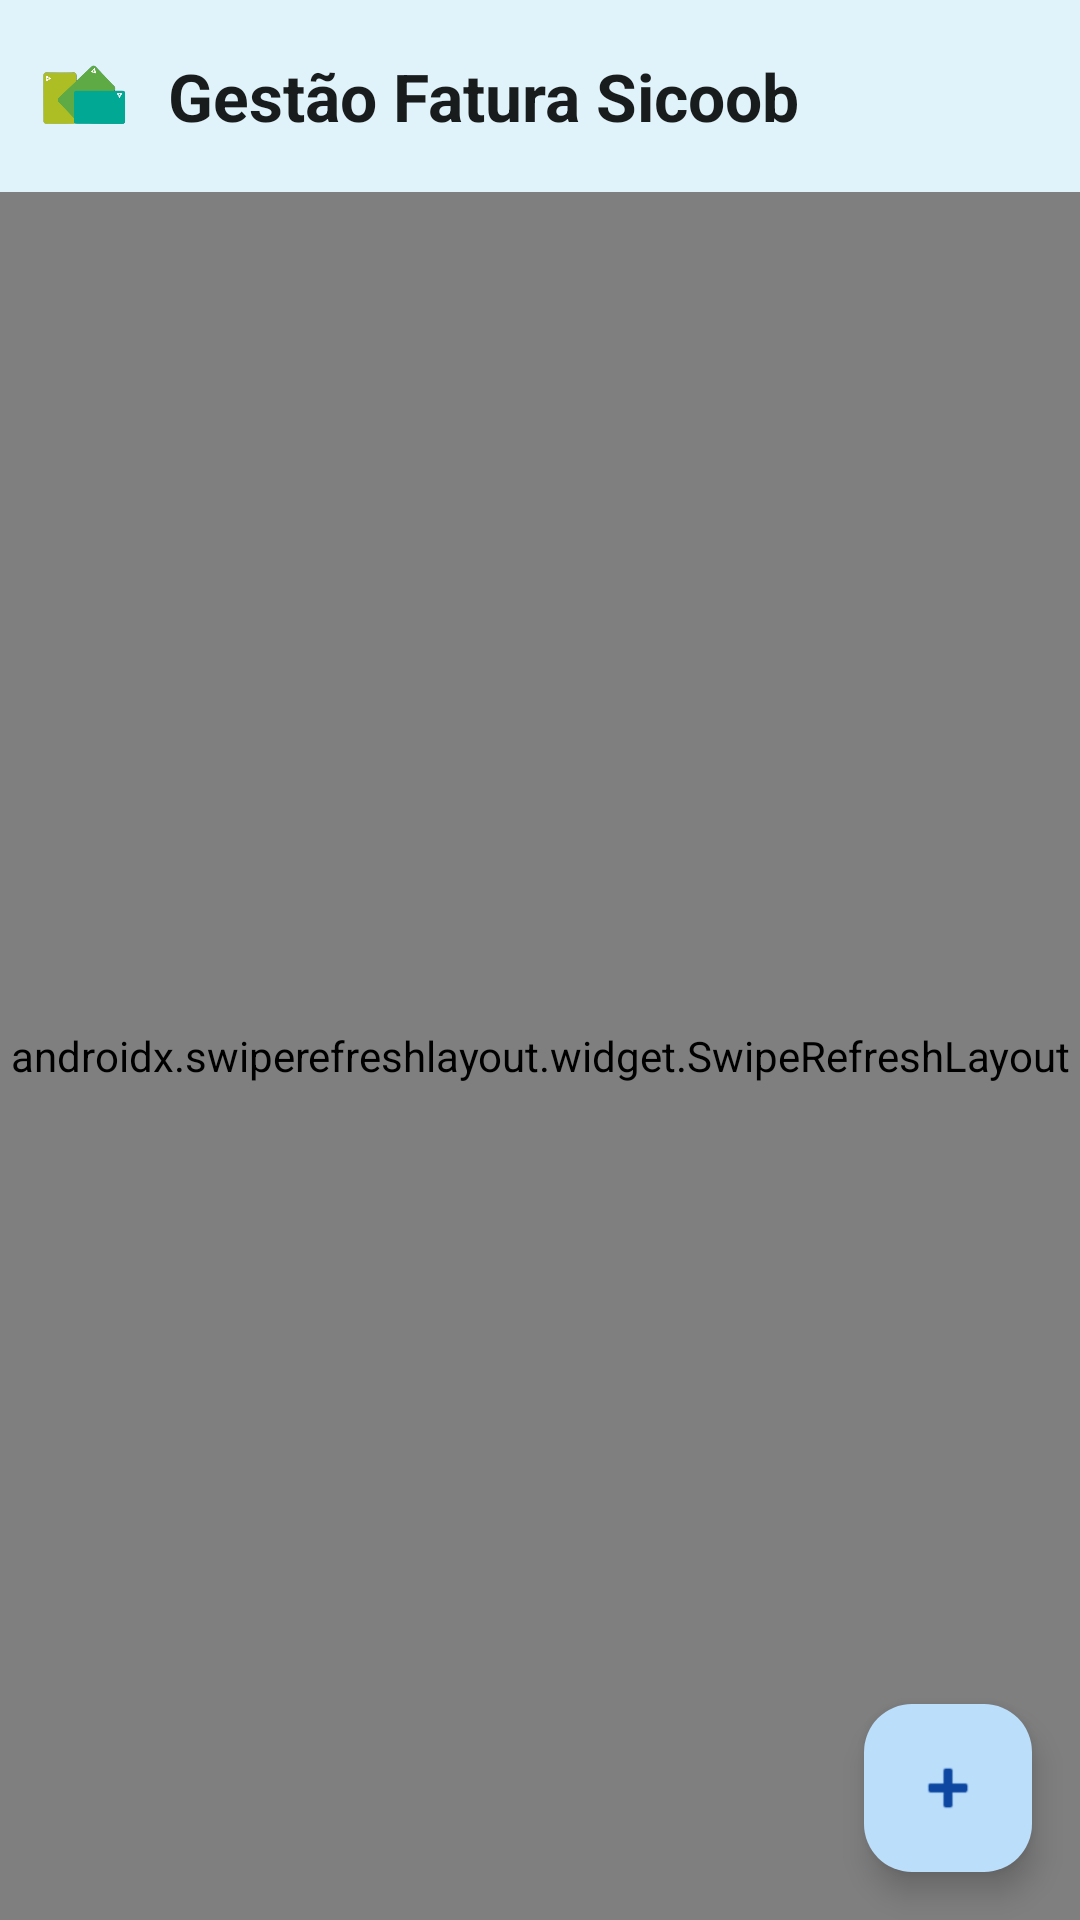

Named icons in this screenshot (1080 x 1920) and their centers, (x,y):
Adicionar Fatura: (948,1788)
